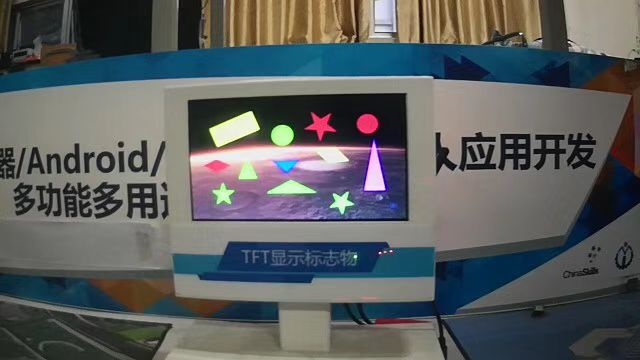graph: (184, 91, 413, 224)
